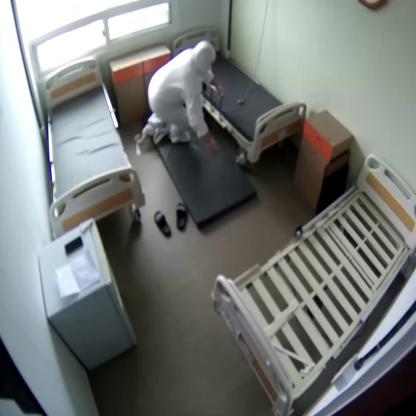Bed: (211, 153, 415, 416), (42, 60, 146, 240), (174, 26, 306, 164)
Person: (141, 41, 224, 155)
